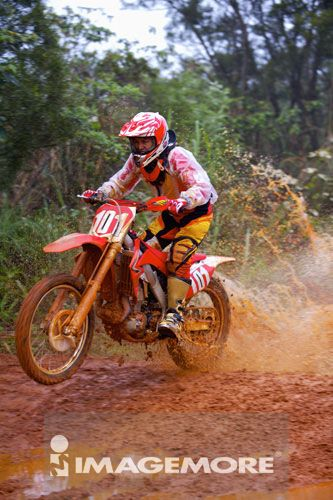helmet: (121, 107, 175, 161)
